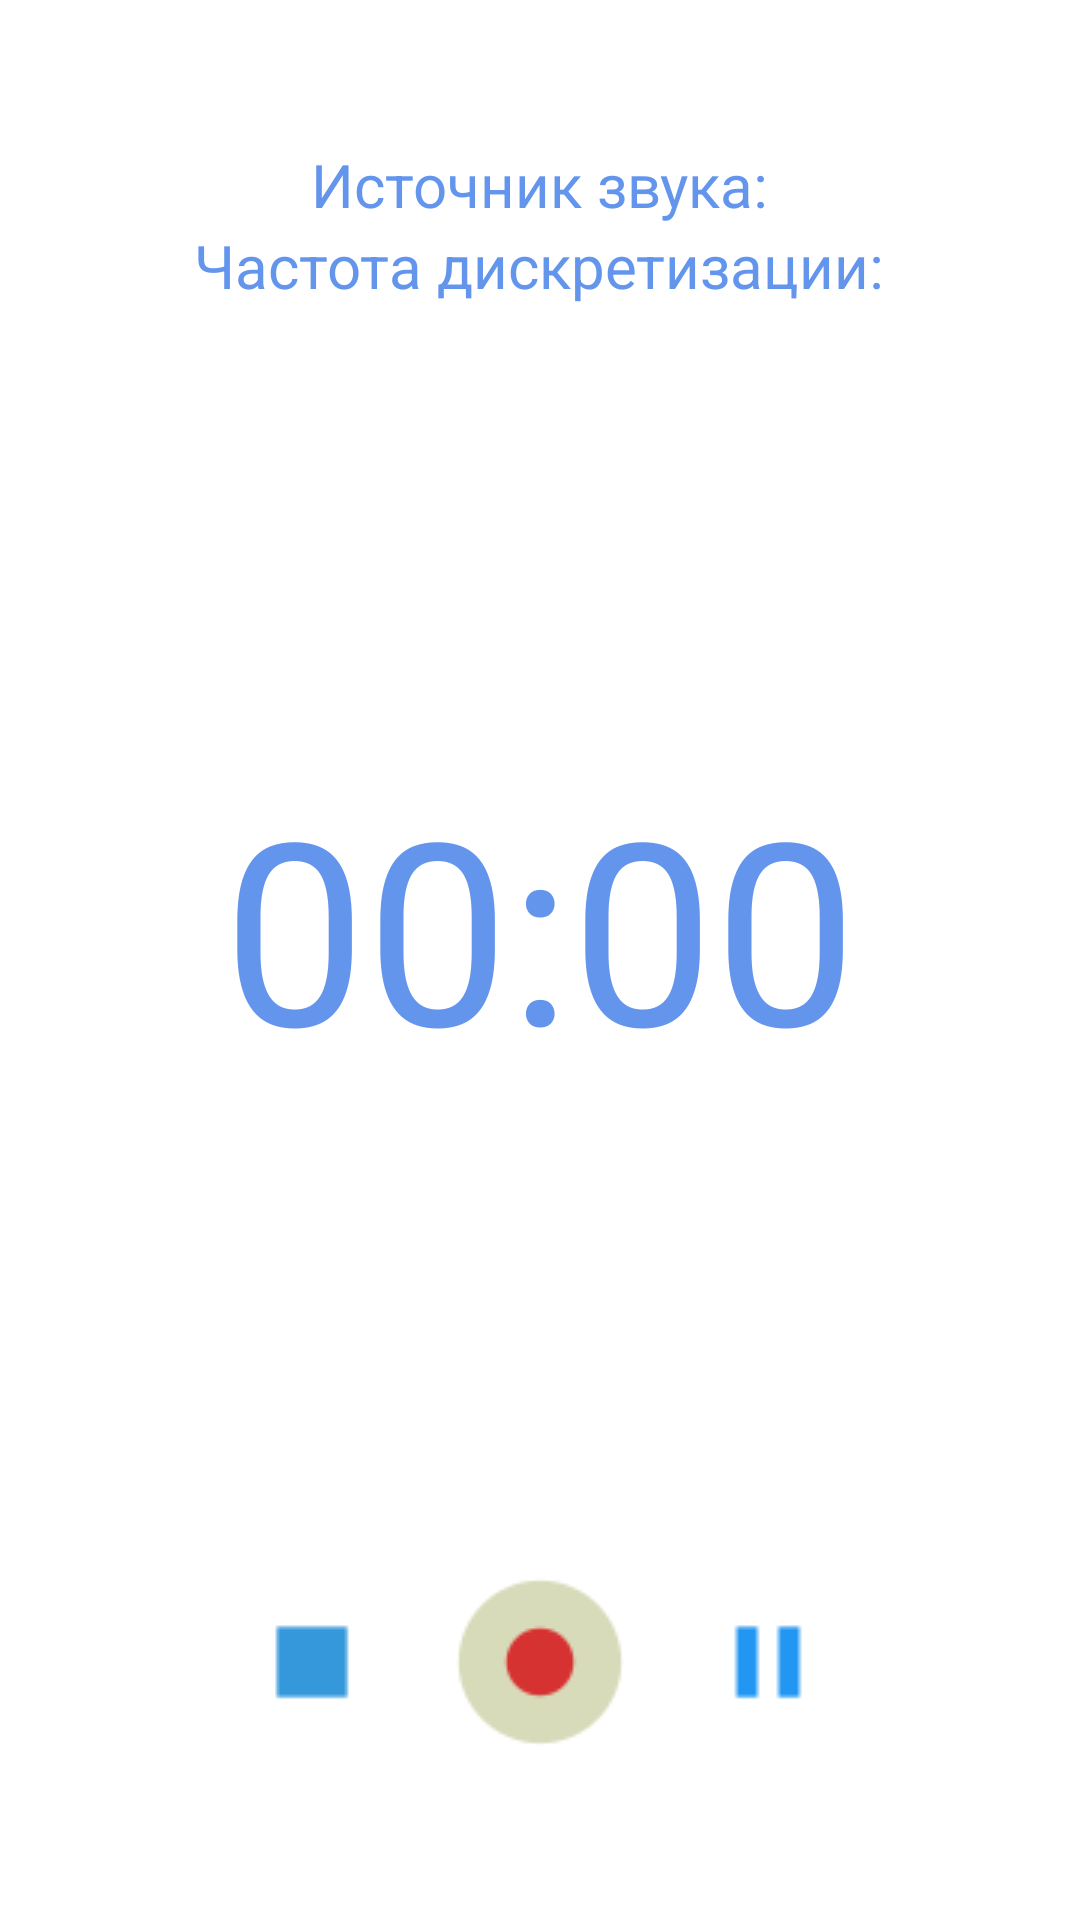

Named icons in this screenshot (1080 × 1920) and their bounding boxes, BBox(x1, y1, x2, y2):
pause: BBox(734, 1625, 802, 1699)
record: BBox(458, 1580, 622, 1744)
stop: BBox(275, 1625, 349, 1699)
